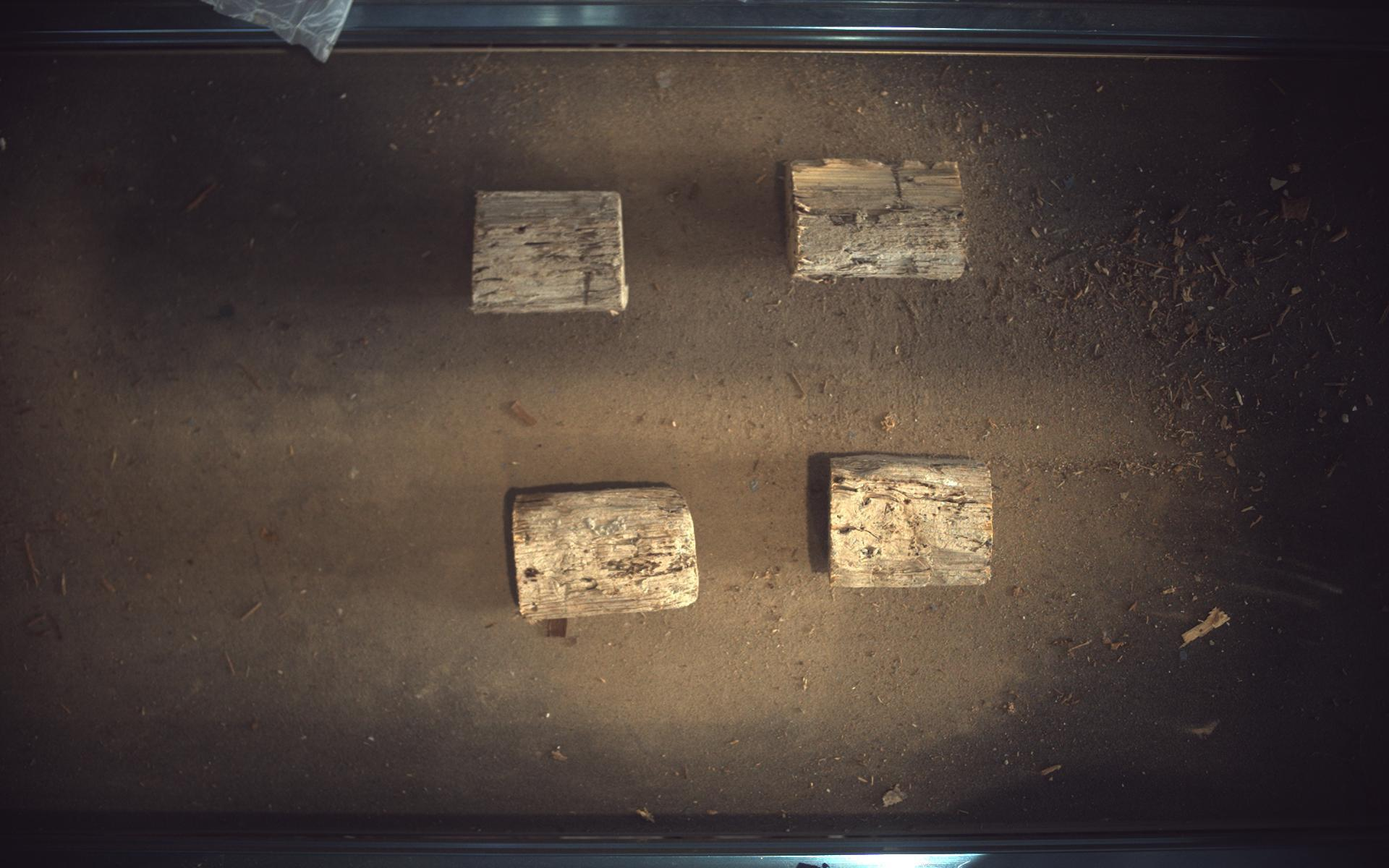wood: (513, 486, 700, 622), (787, 158, 968, 279), (831, 455, 995, 588), (472, 192, 629, 315)
